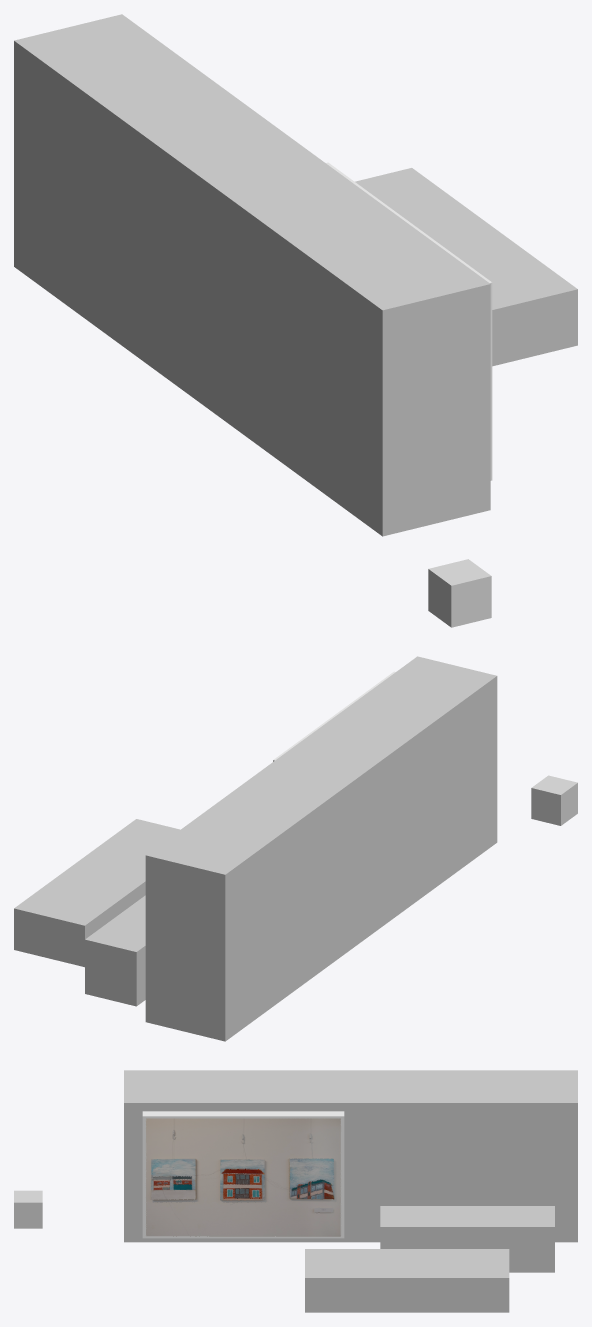
Rendered from sample003.glb.
3 views of the same model, one above another, from view 1: azimuth 30°, elevation 25°; view 2: azimuth 150°, elevation 25°; view 3: azimuth 270°, elevation 25° (orthographic). The views are drawn at different scales.
Parts seen in each view (by area): view 1: SketchUp, SketchUp.003, Cube, SketchUp.001; view 2: SketchUp, SketchUp.003, SketchUp.002, Cube; view 3: SketchUp, SketchUp.001, SketchUp.003, SketchUp.002, Cube.
Part boxes in pixels (<box>): SketchUp: <box>14,14,490,536</box>; SketchUp.003: <box>355,168,577,366</box>; Cube: <box>428,559,491,627</box>; SketchUp.001: <box>326,162,492,480</box>; SketchUp: <box>145,656,497,1041</box>; SketchUp.003: <box>14,819,179,967</box>; SketchUp.002: <box>85,895,145,1006</box>; Cube: <box>531,775,577,825</box>; SketchUp: <box>124,1070,577,1242</box>; SketchUp.001: <box>142,1111,344,1238</box>; SketchUp.003: <box>305,1249,509,1312</box>; SketchUp.002: <box>380,1206,554,1272</box>; Cube: <box>14,1190,42,1228</box>.
Bounding box in the file's own units: 18.08 × 11.78 × 39.54.
3 materials, 1 textured.
